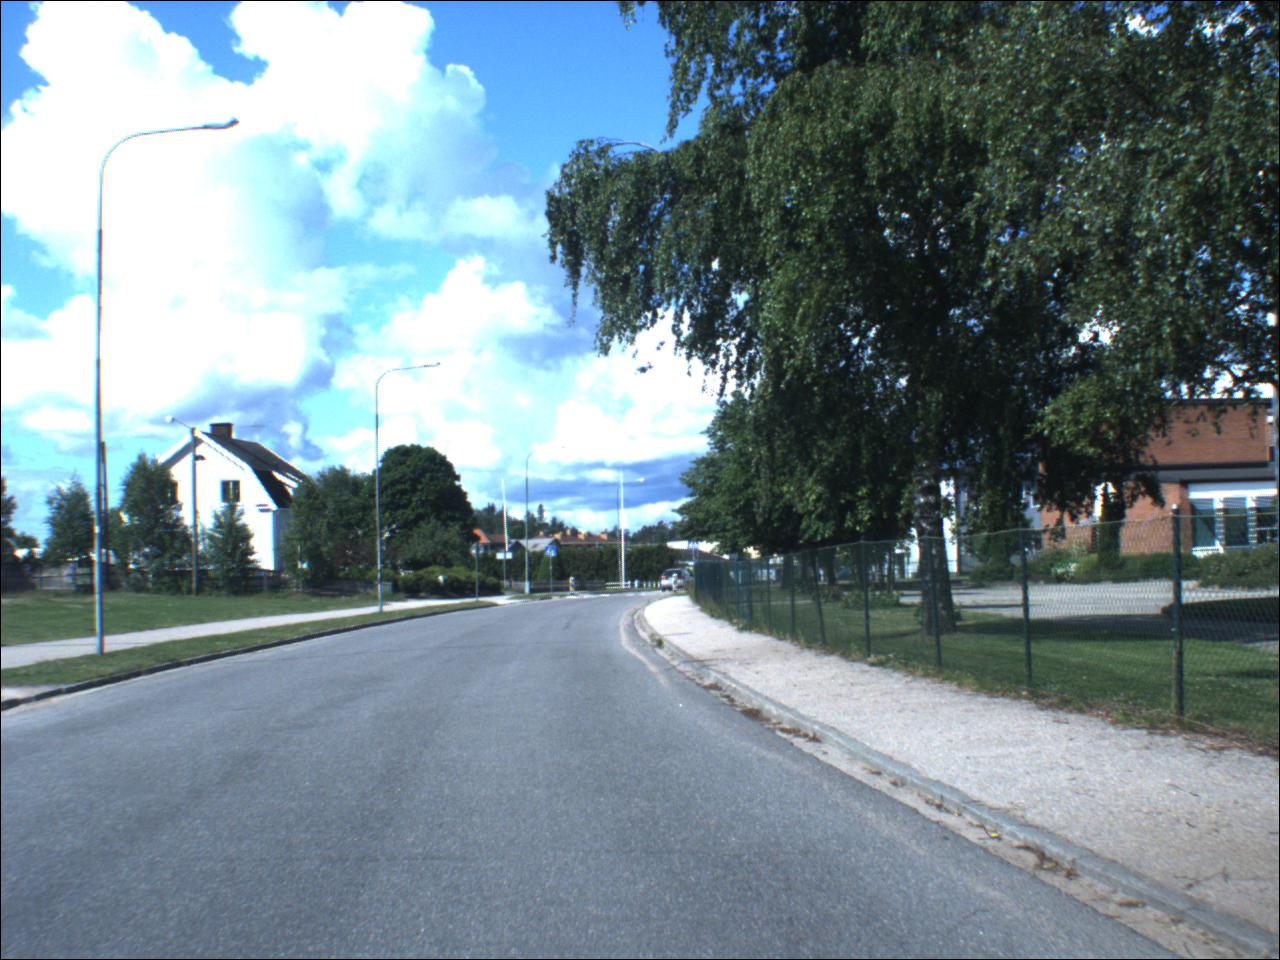PEDESTRIAN_CROSSING: (548, 546, 559, 560), (690, 541, 701, 551)
